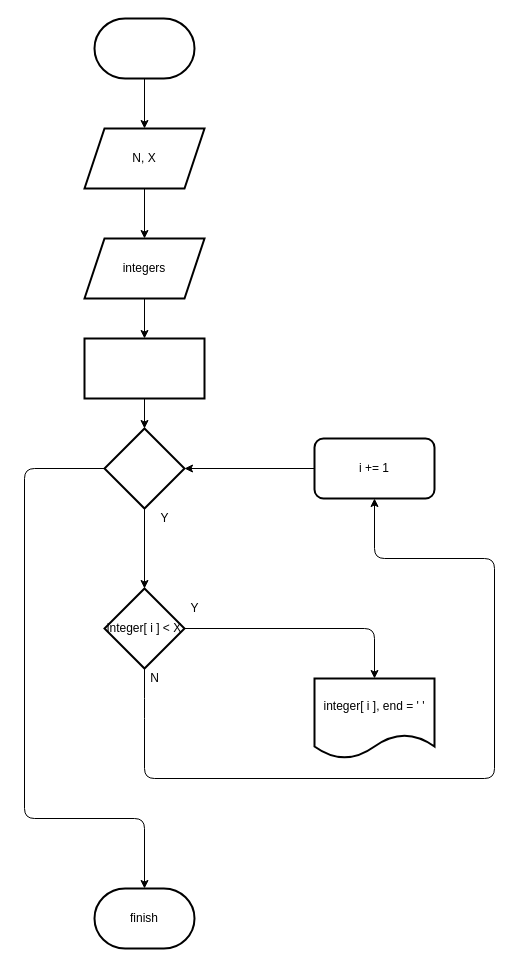
Some shapes in this 520 by 966 pixel diagram are drawn without their labels. The shapes that lost their labels are listed below. From the top down, each one's box as (x1, y1, x2, y2) in pixels, then its label:
(93, 17, 195, 79): start
(83, 337, 205, 399): i = 0
(103, 427, 185, 509): i < N
